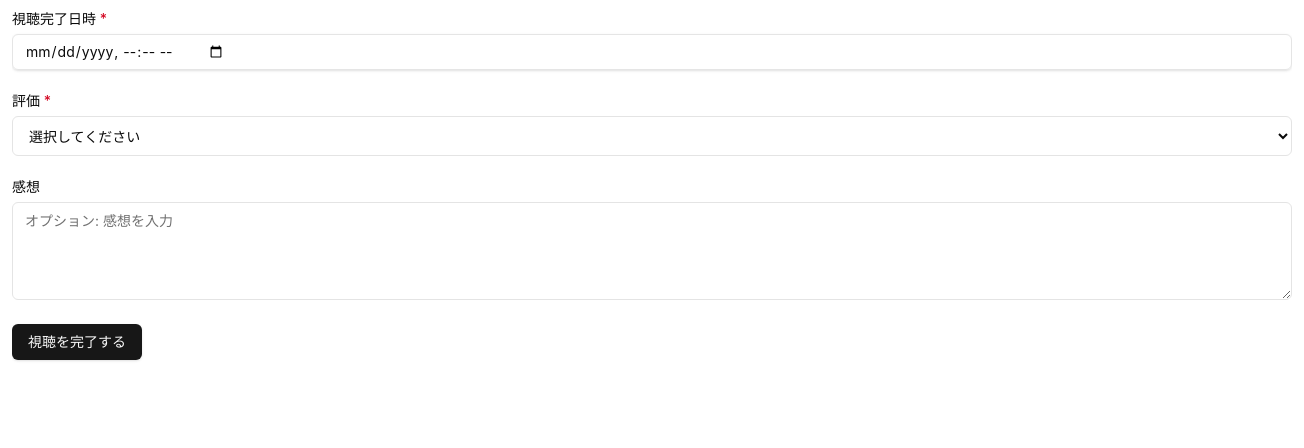
Test: CompleteEpisodeForm › error handling › should display generic error message for unknown errors
Type "2025-01-15T20:00" into the field labelled "視聴完了日時 *" at (652, 52), box [12,34,1292,70]
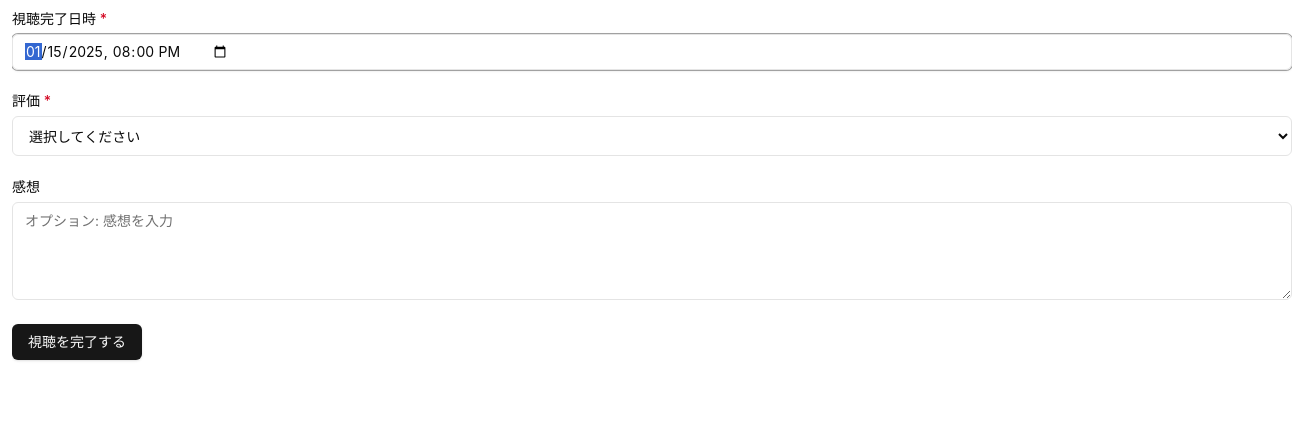
Select "2" in the dropdown labelled "評価 *" at (652, 136), box [12,116,1292,156]
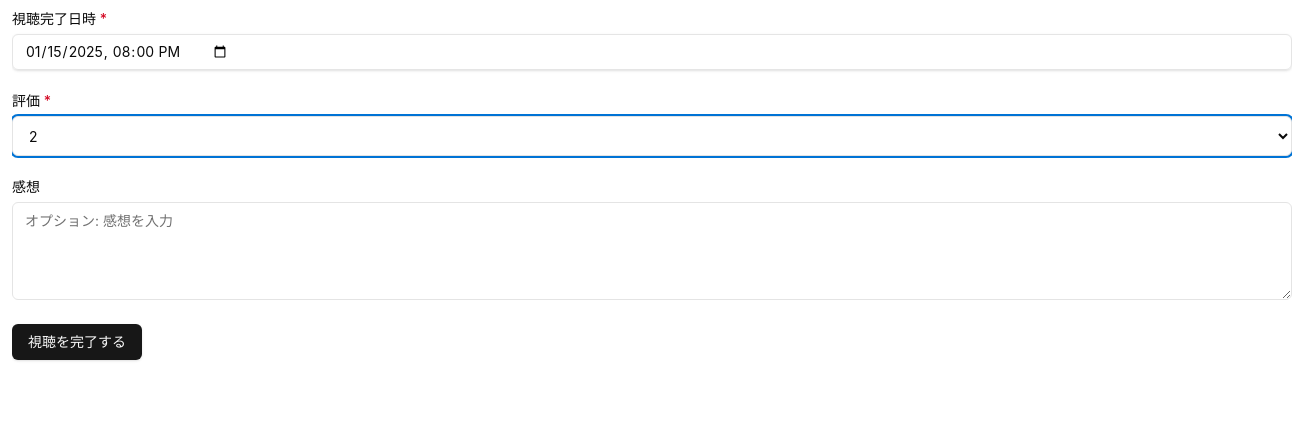
Click the button "視聴を完了する" at (77, 342), box [12,324,142,360]
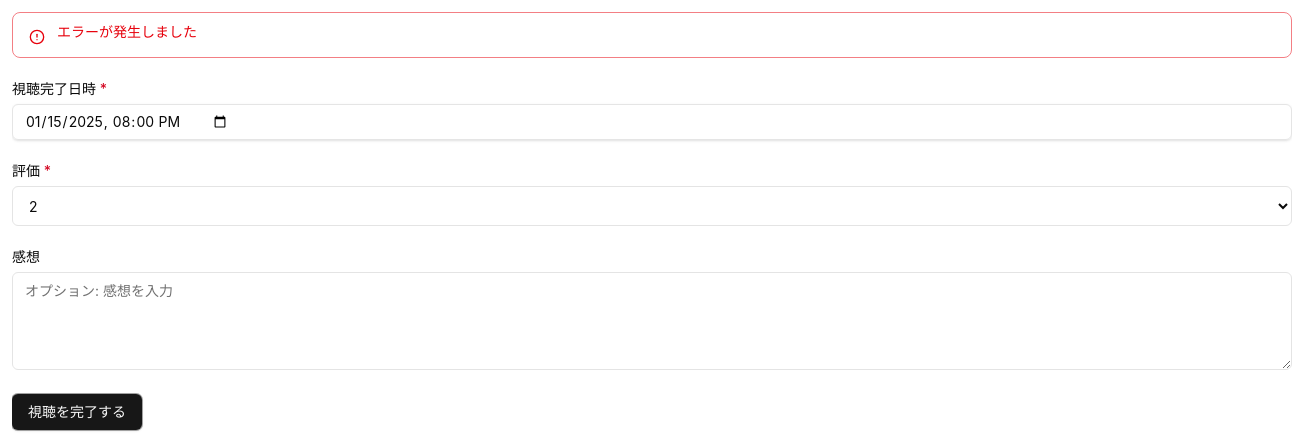
Check: the text "エラーが発生しました" is shown, box [57,23,197,40]
